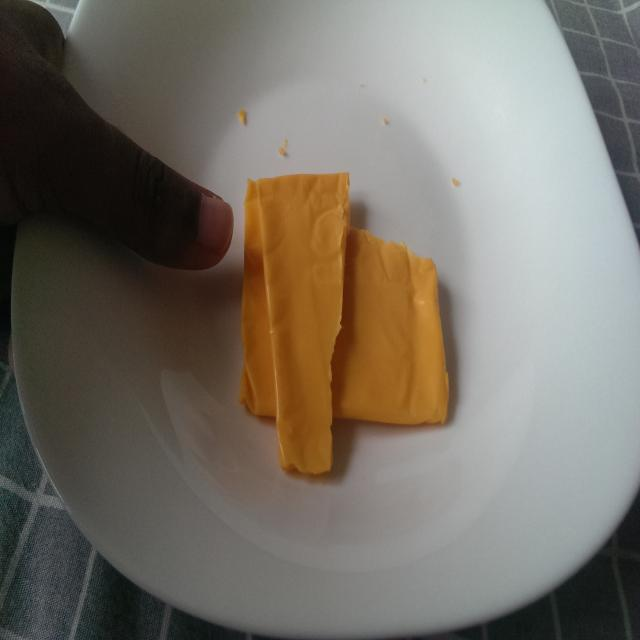cheese: (238, 163, 454, 482)
